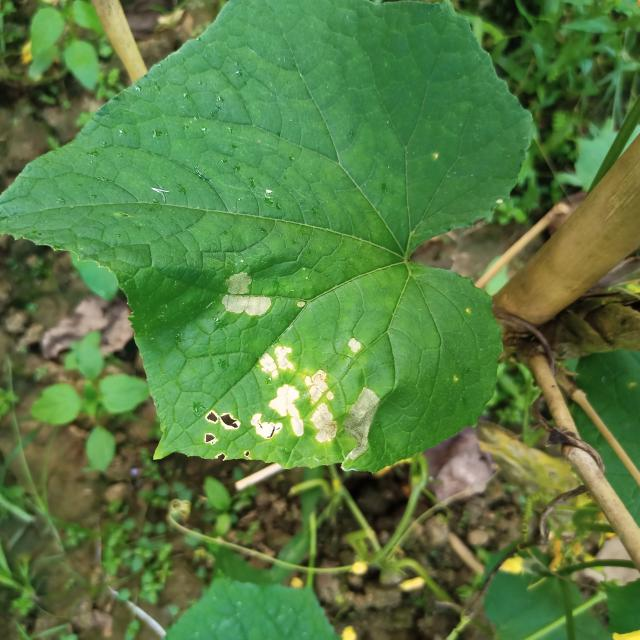disease_cucumber: (186, 335, 388, 463), (217, 266, 274, 324)
